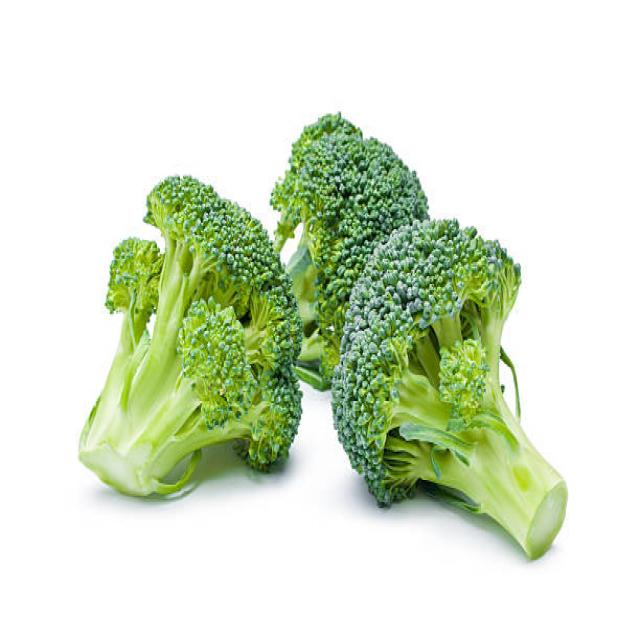broccoli: (66, 191, 297, 537), (352, 241, 587, 546), (309, 95, 436, 217)
